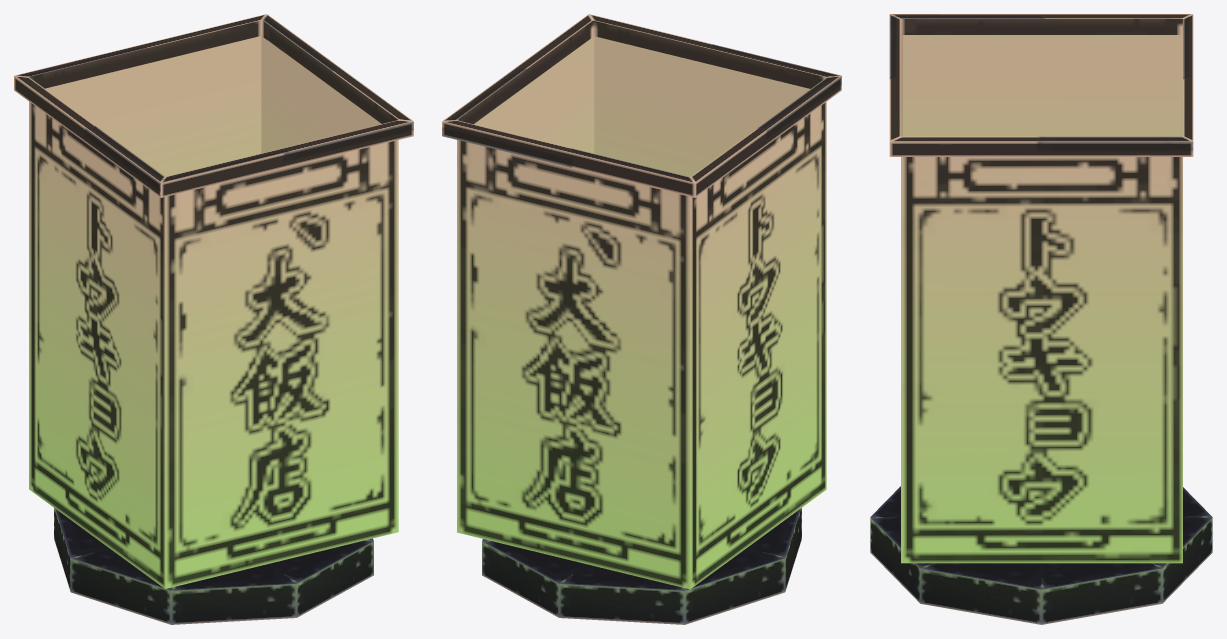
File: bl002d-color.glb
3 views of the same model, side by side, from view 1: azimuth 30°, elevation 25°; view 2: azimuth 150°, elevation 25°; view 3: azimuth 270°, elevation 25° (orthographic). The views are drawn at different scales.
Parts seen in each view (by area): view 1: _M01, _M00_AN0000_OO_SH_FG01_KG; view 2: _M01, _M00_AN0000_OO_SH_FG01_KG; view 3: _M01, _M00_AN0000_OO_SH_FG01_KG.
Boxes of the visible parts, x1,y1,x2,y2 form: _M01: [14, 14, 413, 588]; _M00_AN0000_OO_SH_FG01_KG: [54, 508, 373, 624]; _M01: [442, 14, 841, 589]; _M00_AN0000_OO_SH_FG01_KG: [482, 508, 801, 624]; _M01: [889, 14, 1193, 563]; _M00_AN0000_OO_SH_FG01_KG: [870, 486, 1212, 624].
Size of the model in its own units: 0.8776 by 1.34 by 0.8776.
Materials: 1 (1 with a texture image).
